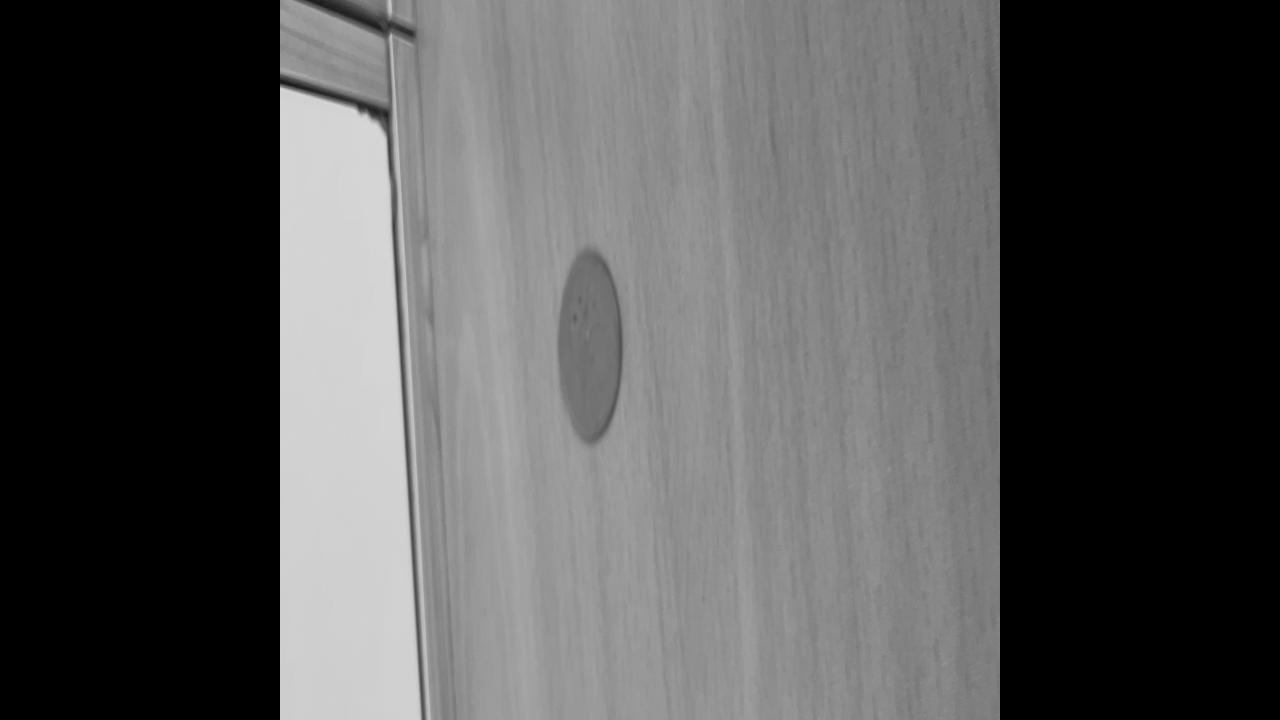coin: (555, 241, 625, 447)
